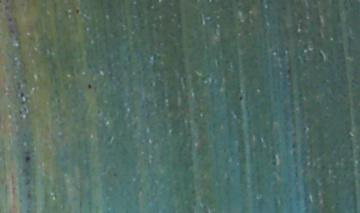tarspot: (23, 155, 31, 163), (19, 91, 26, 98), (238, 94, 244, 101), (75, 8, 80, 16), (86, 84, 92, 89)
